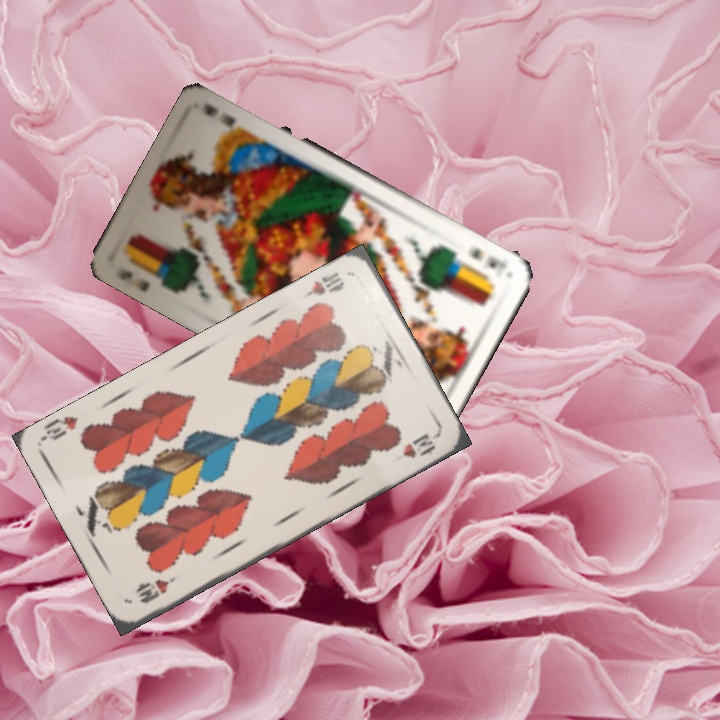EK: (464, 243, 508, 271), (112, 264, 153, 294)
H10: (299, 267, 348, 302), (133, 572, 180, 607)
